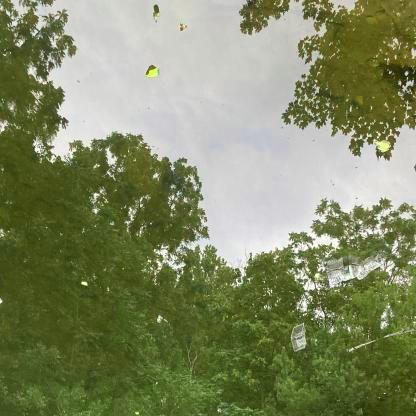Plastic: (324, 251, 384, 295), (288, 321, 310, 353)
